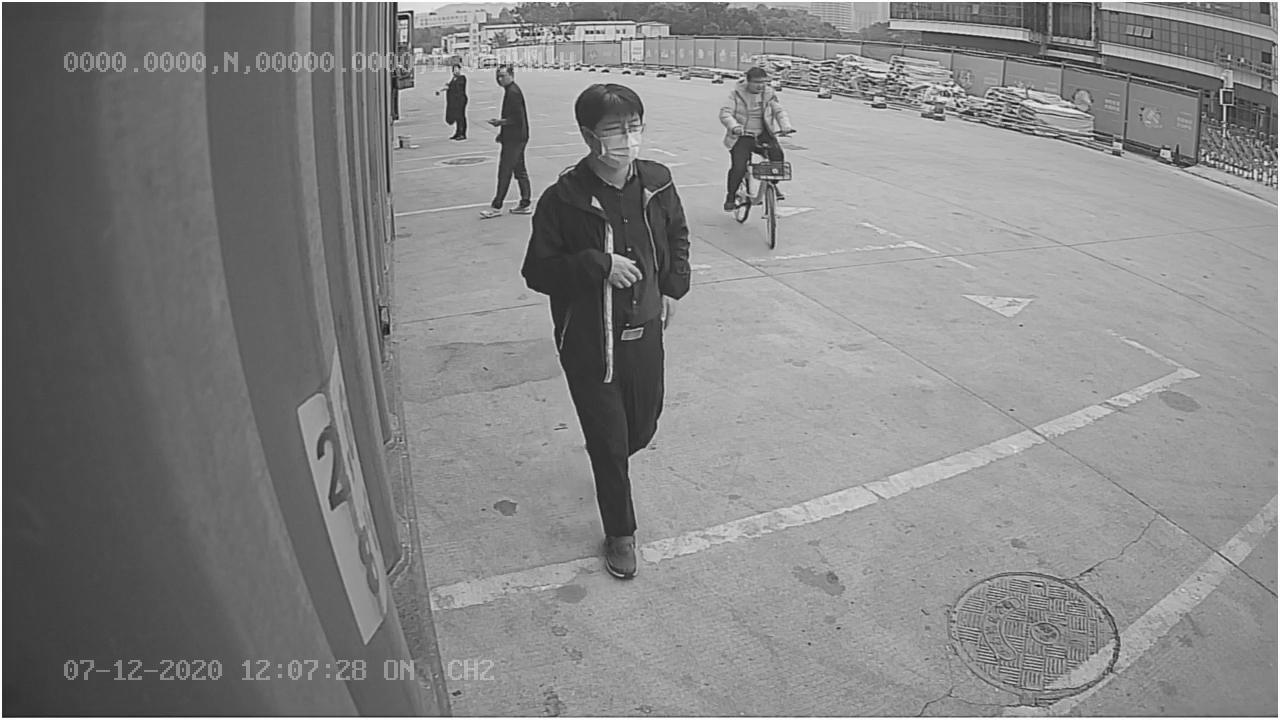person: (525, 84, 695, 579)
